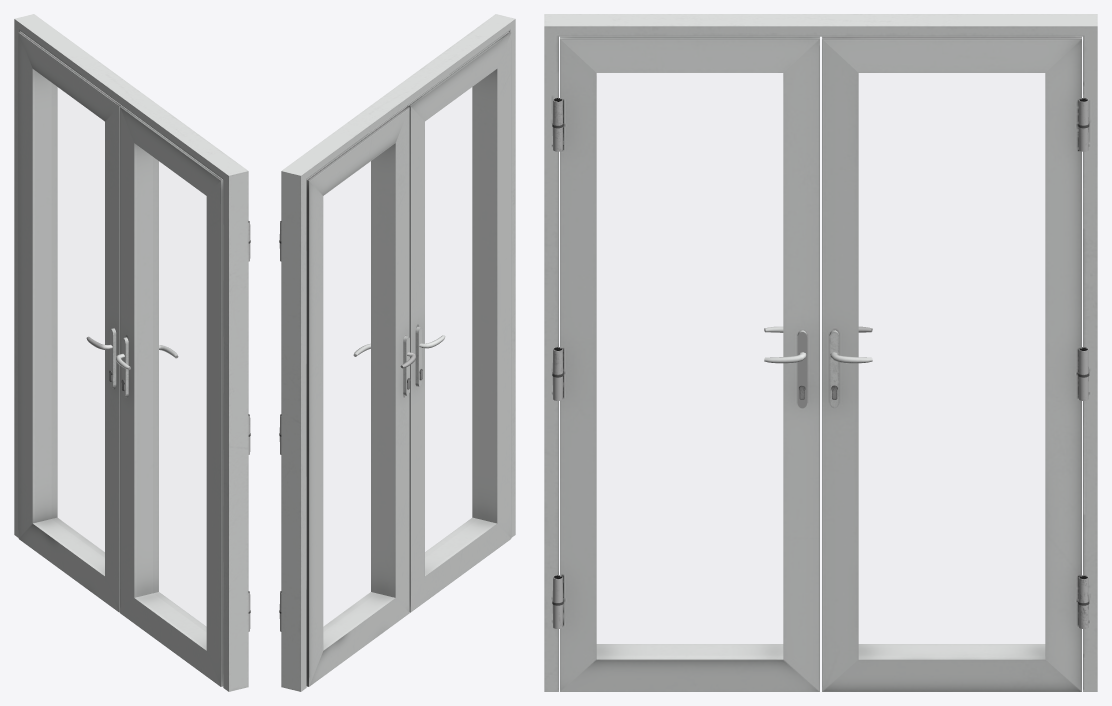
The model's file is Door.glb.
3 renders of one model, left to right at view 1: azimuth 30°, elevation 25°; view 2: azimuth 150°, elevation 25°; view 3: azimuth 270°, elevation 25°, orthographic. The views are drawn at different scales.
Visible parts, largest first — view 1: doors_low, frame_low, handleFrameRight_low, handleFrameLeft_low; view 2: doors_low, frame_low, handleFrameLeft_low; view 3: doors_low, frame_low.
Boxes of the visible parts, left/top/right/bottom form: doors_low: left=18, top=32, right=223, bottom=686; frame_low: left=14, top=14, right=248, bottom=691; handleFrameRight_low: left=109, top=328, right=116, bottom=388; handleFrameLeft_low: left=121, top=337, right=128, bottom=397; doors_low: left=306, top=32, right=511, bottom=686; frame_low: left=281, top=14, right=515, bottom=691; handleFrameLeft_low: left=415, top=327, right=422, bottom=386; doors_low: left=560, top=36, right=1081, bottom=691; frame_low: left=544, top=14, right=1097, bottom=691.
Size of the model in its own units: 0.2289 by 2.11 by 1.59.
Materials: 2 (2 with a texture image).
